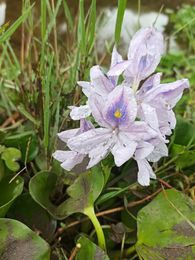water_hyacinth: (1, 26, 195, 260)
